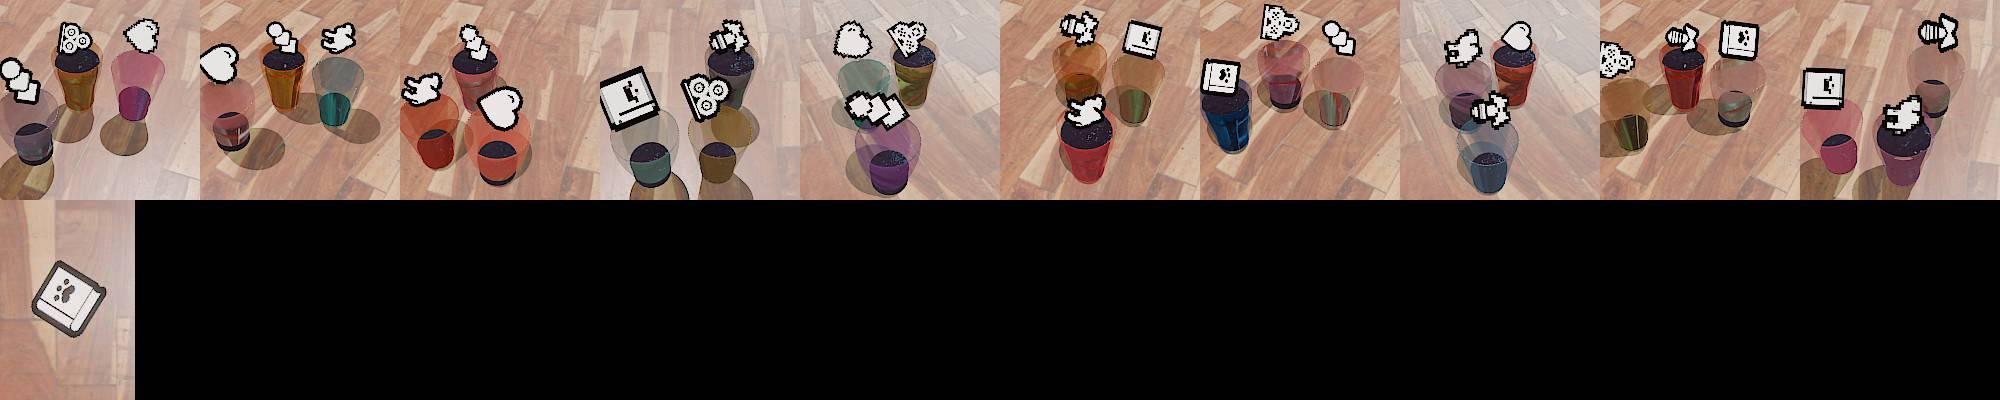icon: (29, 260, 110, 339), (597, 66, 662, 134), (844, 88, 908, 130), (680, 73, 730, 121), (476, 85, 524, 130), (0, 59, 42, 106), (1801, 68, 1846, 110), (1719, 20, 1761, 62), (1121, 18, 1163, 59), (199, 43, 240, 85), (1883, 93, 1925, 134), (886, 19, 930, 59), (1917, 13, 1958, 54), (1059, 8, 1099, 47), (833, 20, 874, 60), (1260, 4, 1302, 42), (1469, 92, 1514, 127), (1444, 27, 1482, 68), (1200, 57, 1241, 96), (401, 71, 444, 107), (708, 19, 750, 55), (458, 23, 494, 64), (1599, 39, 1635, 80), (1065, 92, 1107, 126), (1321, 18, 1357, 57), (264, 20, 301, 56), (124, 18, 161, 54), (1665, 22, 1703, 55), (57, 22, 93, 56), (320, 22, 356, 55), (1499, 20, 1534, 54)
